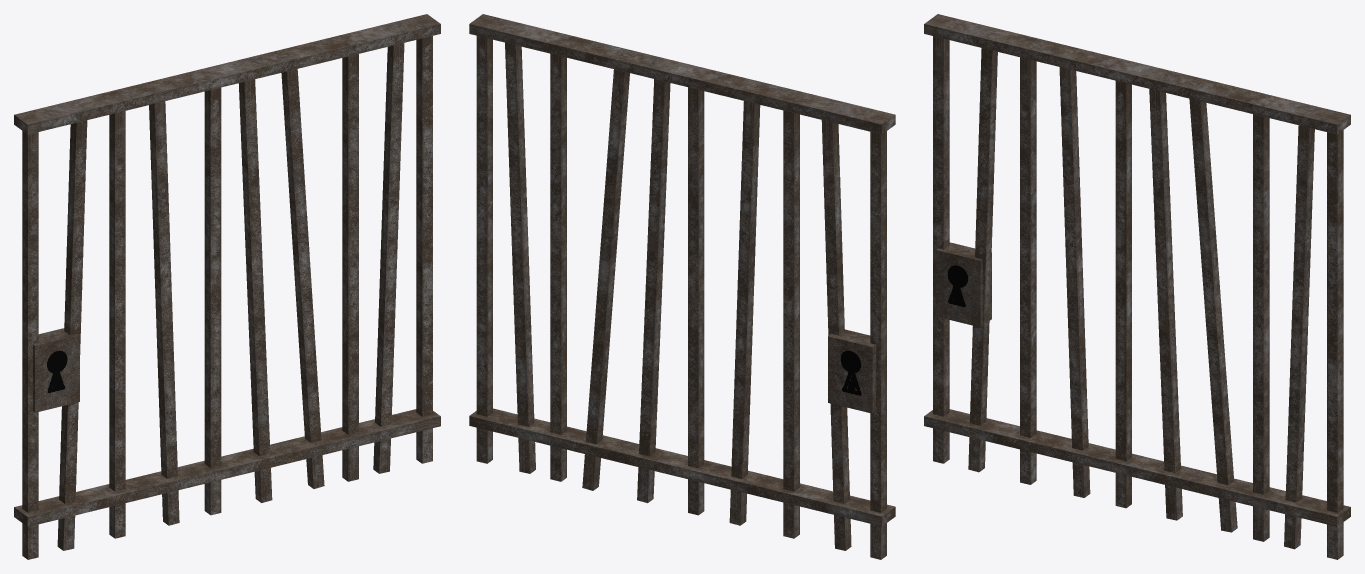
The model's file is puertaruina.obj.
3 renders of one model, left to right at view 1: azimuth 30°, elevation 25°; view 2: azimuth 150°, elevation 25°; view 3: azimuth 330°, elevation 25°, orthographic.
Parts seen in each view (by area): view 1: puertaruina; view 2: puertaruina; view 3: puertaruina.
Boxes of the visible parts, x1,y1,x2,y2 form: puertaruina: [14, 14, 440, 559]; puertaruina: [469, 14, 895, 559]; puertaruina: [924, 14, 1350, 559].
Size of the model in its own units: 14.62 by 14.87 by 0.839.
1 material, 1 textured.
